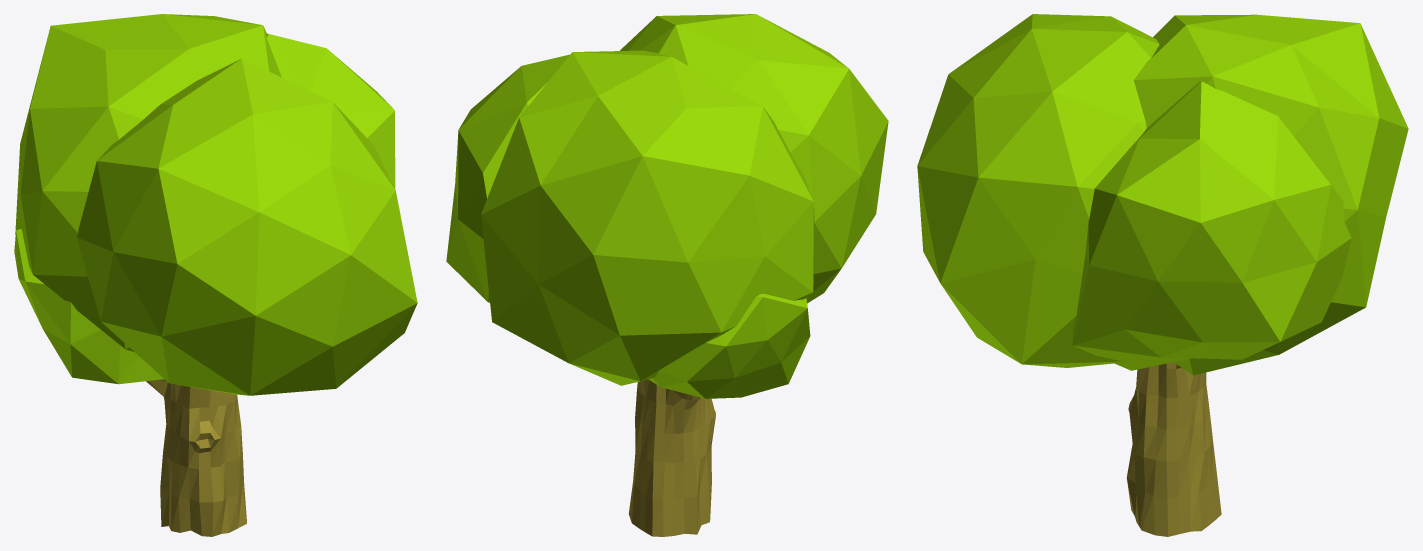
Rendered from tree.glb.
3 renders of one model, left to right at view 1: azimuth 30°, elevation 25°; view 2: azimuth 150°, elevation 25°; view 3: azimuth 270°, elevation 25°, orthographic. The views are drawn at different scales.
Parts seen in each view (by area): view 1: Icosphere, Cylinder; view 2: Icosphere, Cylinder; view 3: Icosphere, Cylinder.
Part boxes in pixels (x1,y1,x2,y2): Icosphere: [14, 14, 417, 395]; Cylinder: [146, 379, 246, 536]; Icosphere: [446, 14, 888, 398]; Cylinder: [628, 379, 715, 536]; Icosphere: [917, 14, 1408, 375]; Cylinder: [1126, 362, 1221, 536].
Size of the model in its own units: 16.5 by 21.82 by 19.57.
